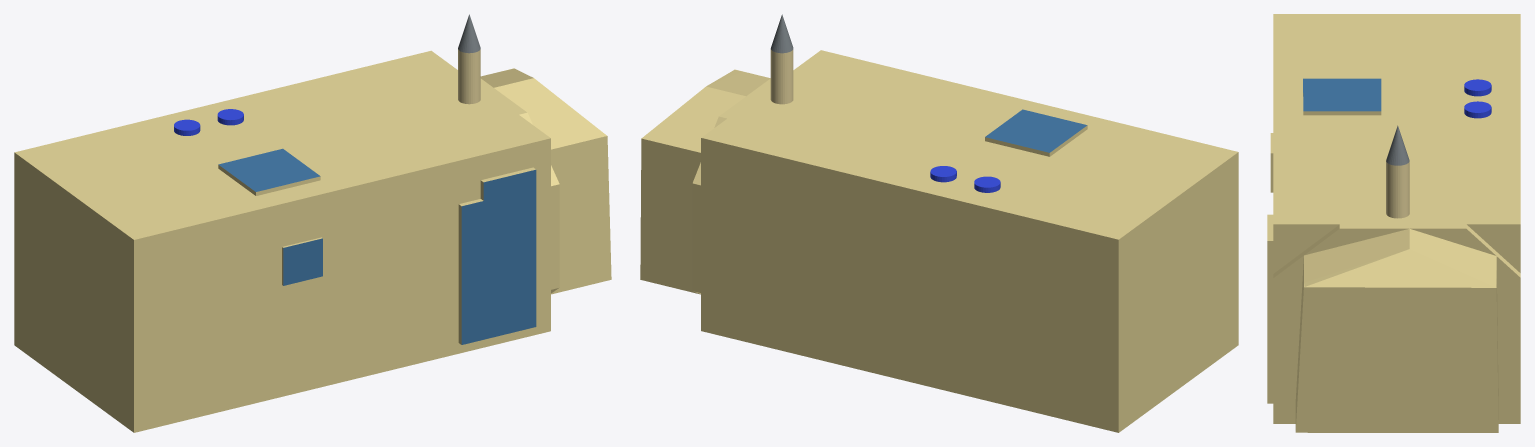
Rendered from satelite.glb.
3 views of the same model, side by side, from view 1: azimuth 30°, elevation 25°; view 2: azimuth 150°, elevation 25°; view 3: azimuth 270°, elevation 25° (orthographic). The views are drawn at different scales.
Visible parts, largest first — view 1: Cubo, Cono; view 2: Cubo, Cono; view 3: Cubo, Cono, Cilindro.001, Cilindro.
Boxes of the visible parts, x1,y1,x2,y2 form: Cubo: (14, 50, 611, 432); Cono: (458, 14, 480, 104); Cubo: (640, 50, 1238, 432); Cono: (770, 14, 793, 104); Cubo: (1267, 14, 1520, 432); Cono: (1386, 125, 1409, 218); Cilindro.001: (1464, 79, 1491, 96); Cilindro: (1464, 101, 1491, 118).
Bounding box in the file's own units: 6.29 × 3.43 × 2.74.
